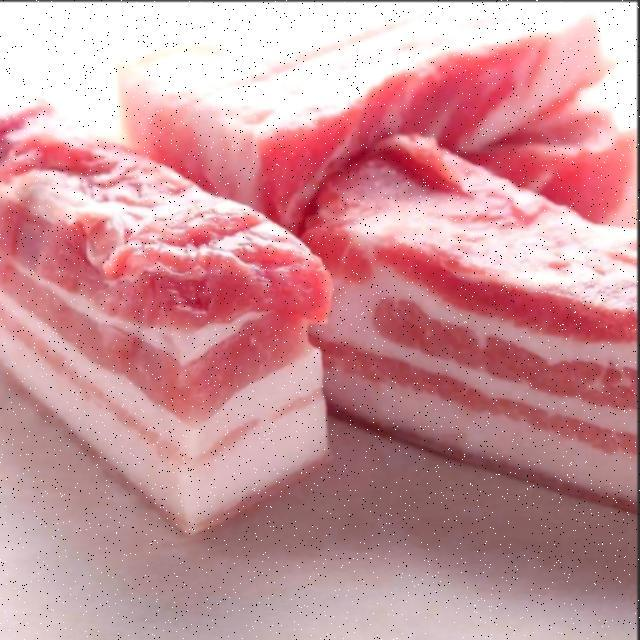pork: (5, 181, 335, 532), (119, 7, 600, 202), (332, 229, 627, 467)
